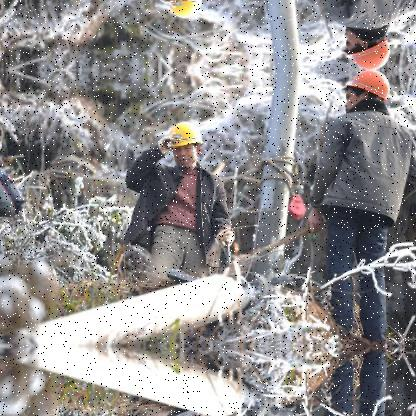helmet: (342, 68, 396, 113), (342, 24, 396, 69), (165, 117, 206, 168), (165, 0, 207, 20)
